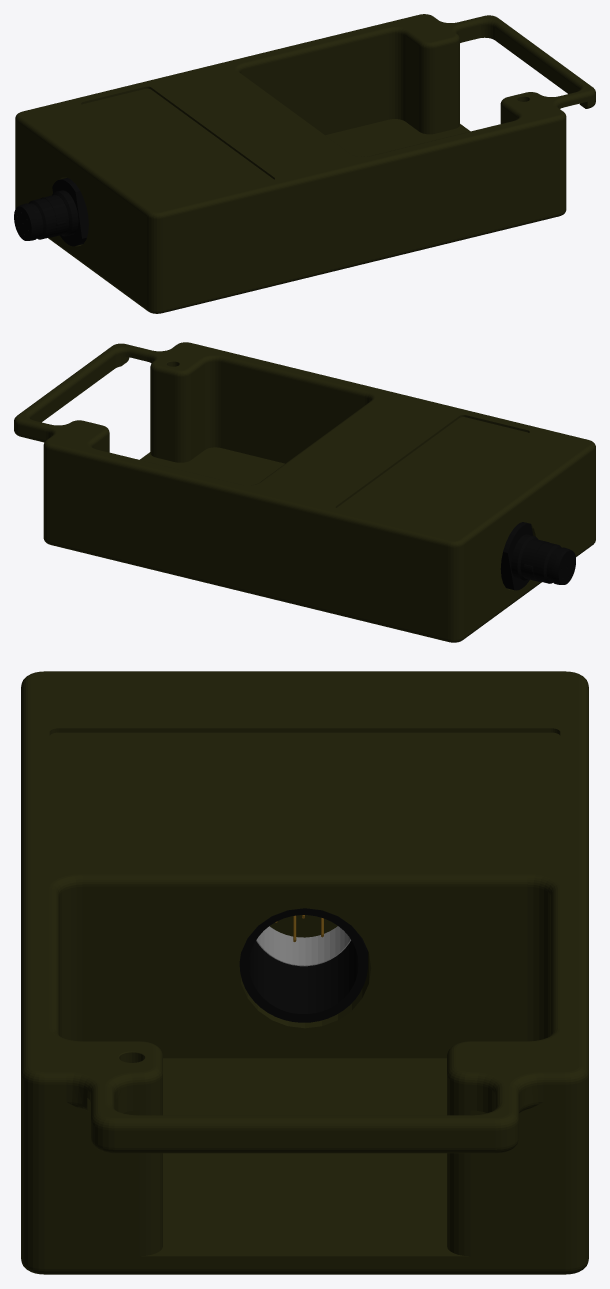
Rendered from TCSC_Barrett 2090_Extended Display.fbx.
3 renders of one model, top to bottom at view 1: azimuth 30°, elevation 25°; view 2: azimuth 150°, elevation 25°; view 3: azimuth 270°, elevation 25°, orthographic. The views are drawn at different scales.
Parts seen in each view (by area): view 1: Shape_IndexedFaceSet.011, Shape_IndexedFaceSet.009, Shape_IndexedFaceSet.010; view 2: Shape_IndexedFaceSet.011, Shape_IndexedFaceSet.009, Shape_IndexedFaceSet.010; view 3: Shape_IndexedFaceSet.011, Shape_IndexedFaceSet, Shape_IndexedFaceSet.008.
Boxes of the visible parts, <box> form: Shape_IndexedFaceSet.011: <box>15,14,595,313</box>; Shape_IndexedFaceSet.009: <box>14,178,88,246</box>; Shape_IndexedFaceSet.010: <box>14,206,31,240</box>; Shape_IndexedFaceSet.011: <box>14,342,595,642</box>; Shape_IndexedFaceSet.009: <box>500,522,575,590</box>; Shape_IndexedFaceSet.010: <box>558,550,575,584</box>; Shape_IndexedFaceSet.011: <box>21,671,588,1274</box>; Shape_IndexedFaceSet: <box>239,908,367,1022</box>; Shape_IndexedFaceSet.008: <box>256,926,350,966</box>.
Bounding box in the file's own units: 12529 × 2360 × 6000.
